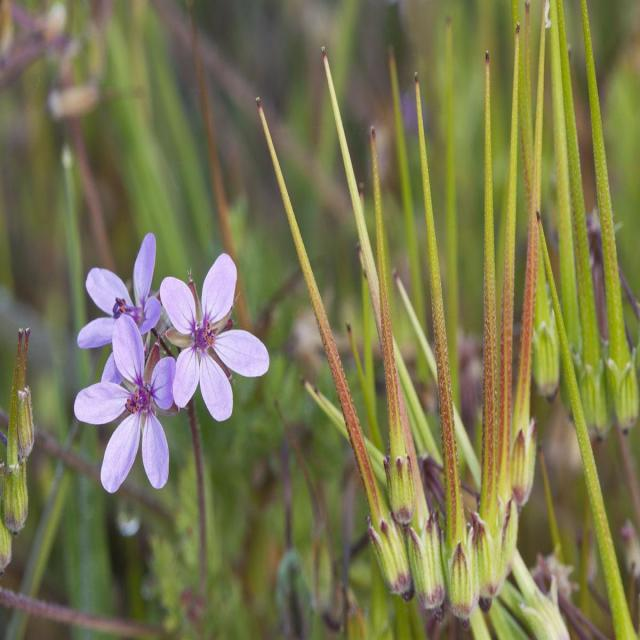organic waste: (68, 308, 185, 498), (162, 269, 274, 425), (60, 224, 164, 384)
